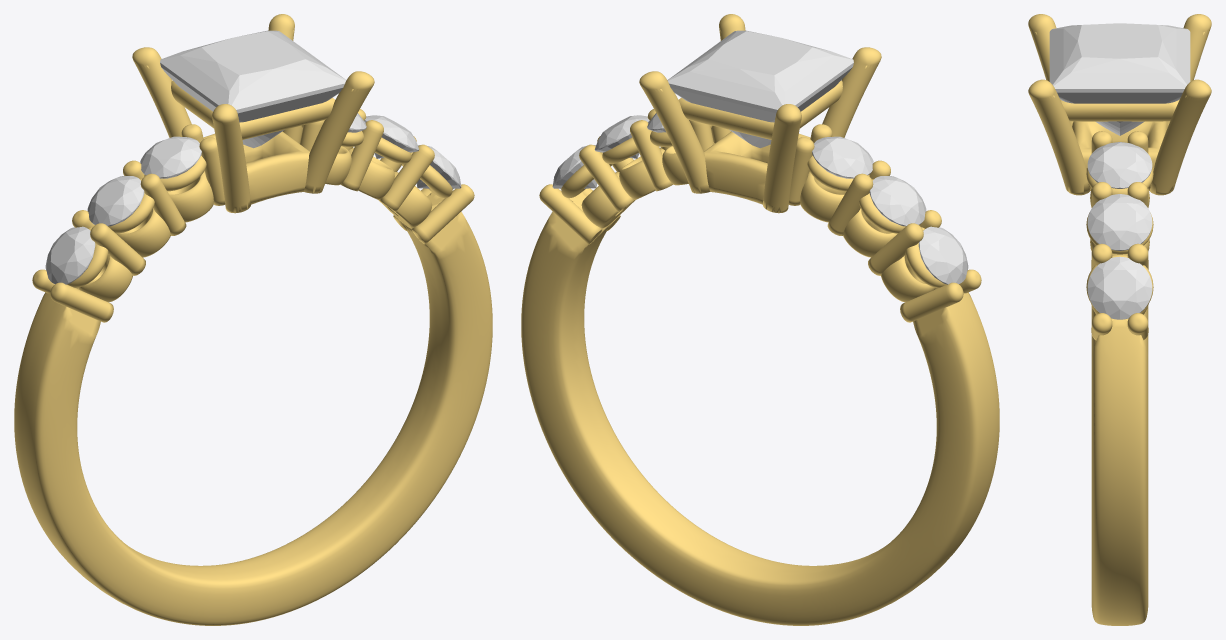
Rendered from diamond-princess-yellowgold-4prong-straightband-7stone.glb.
The picture shows the model from 3 angles, left to right: view 1: azimuth 30°, elevation 25°; view 2: azimuth 150°, elevation 25°; view 3: azimuth 270°, elevation 25°; orthographic projection.
Parts seen in each view (by area): view 1: metal, stone, side, side.001, side.002, side.004, side.005; view 2: metal, stone, side, side.001, side.002, side.004, side.005; view 3: metal, stone, side.005, side.004, side.003.
Boxes of the visible parts, x1,y1,x2,y2 form: metal: [14, 14, 492, 625]; stone: [160, 30, 346, 148]; side: [45, 226, 95, 284]; side.001: [87, 176, 144, 226]; side.002: [140, 136, 201, 178]; side.004: [364, 115, 419, 158]; side.005: [416, 145, 461, 188]; metal: [521, 14, 999, 625]; stone: [667, 30, 853, 148]; side: [918, 226, 968, 284]; side.001: [869, 176, 926, 226]; side.002: [812, 136, 873, 178]; side.004: [594, 115, 649, 158]; side.005: [552, 145, 597, 188]; metal: [1028, 14, 1211, 625]; stone: [1049, 23, 1190, 135]; side.005: [1087, 256, 1152, 319]; side.004: [1087, 194, 1152, 250]; side.003: [1087, 142, 1152, 188].
Size of the model in its own units: 20.51 by 23.85 by 7.08.
